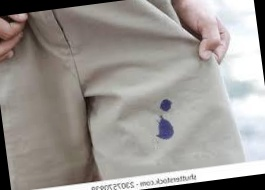ink: (156, 118, 174, 141), (159, 99, 172, 112)
